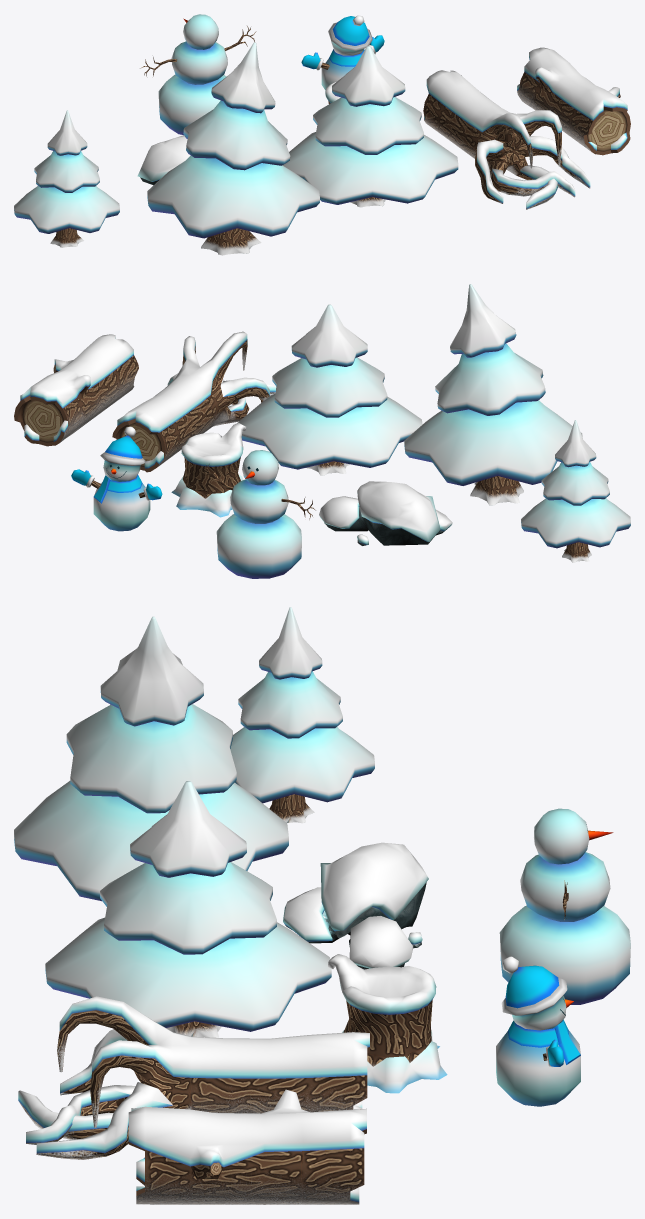
Rendered from Model pack 2.fbx.
3 views of the same model, one above another, from view 1: azimuth 30°, elevation 25°; view 2: azimuth 150°, elevation 25°; view 3: azimuth 270°, elevation 25° (orthographic). The views are drawn at different scales.
Visible parts, largest first — view 1: model pack 02; view 2: model pack 02; view 3: model pack 02.
Part boxes in pixels (x1,y1,x2,y2): model pack 02: (14, 14, 630, 255); model pack 02: (14, 284, 630, 578); model pack 02: (14, 607, 630, 1204).
Size of the model in its own units: 760 by 251 by 446.
1 material, 1 textured.
